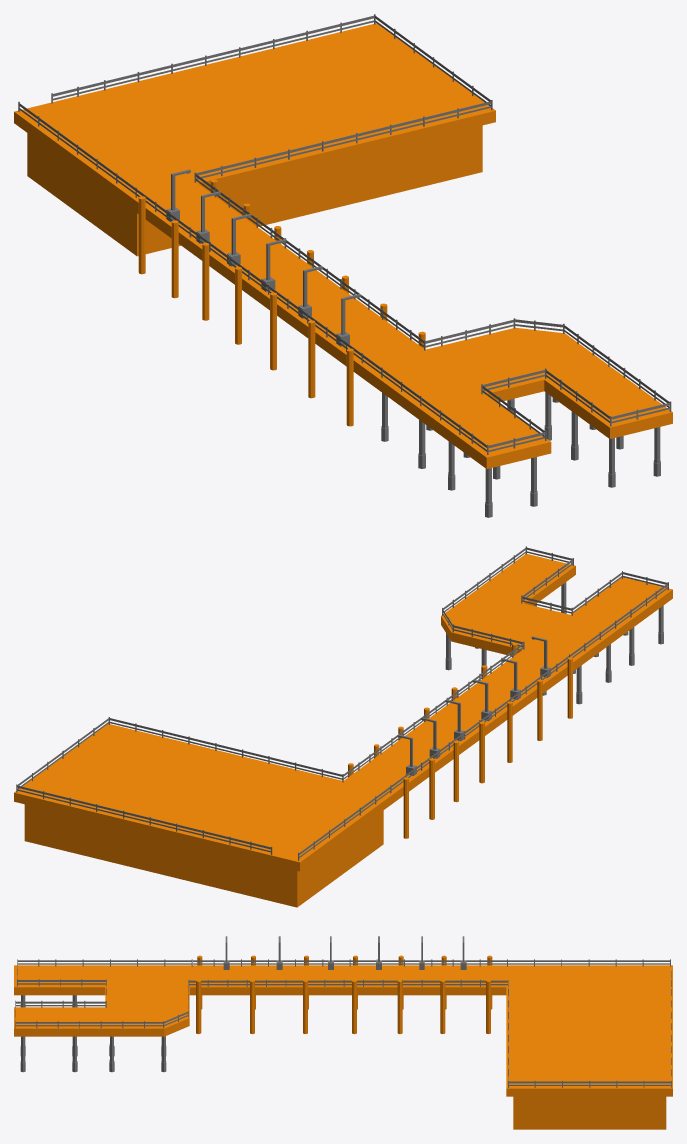
The model's file is boardwalk_trial.FBX.
3 views of the same model, one above another, from view 1: azimuth 30°, elevation 25°; view 2: azimuth 150°, elevation 25°; view 3: azimuth 270°, elevation 25° (orthographic). The views are drawn at different scales.
Visible parts, largest first — view 1: boardwalk_trial; view 2: boardwalk_trial; view 3: boardwalk_trial.
Boxes of the visible parts, x1=… form: boardwalk_trial: x1=14, y1=14, x2=672, y2=517; boardwalk_trial: x1=14, y1=546, x2=672, y2=907; boardwalk_trial: x1=14, y1=936, x2=672, y2=1129.
Size of what is drawn, in the model's own units: 39.22 by 87.03 by 11.24.
